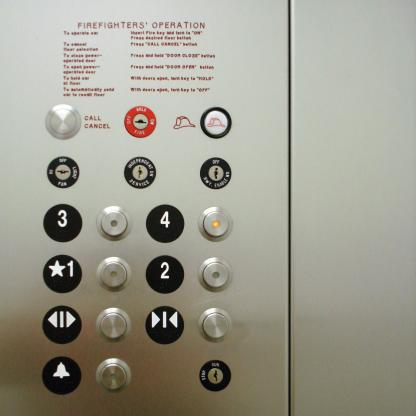2: (145, 254, 185, 295)
3: (43, 203, 83, 244)
4: (146, 203, 184, 244)
alarm: (40, 354, 83, 396)
close: (144, 304, 185, 345)
empty: (93, 356, 133, 395), (94, 255, 133, 294), (94, 306, 132, 344), (196, 256, 234, 294), (44, 103, 81, 139), (96, 205, 132, 241), (198, 206, 234, 242), (197, 307, 233, 343)
hat: (200, 106, 232, 139)
keyhole: (123, 104, 157, 140), (123, 154, 157, 190), (45, 155, 80, 189), (198, 358, 232, 393), (200, 157, 233, 190)
open: (41, 303, 83, 346)
s1: (42, 254, 83, 293)
